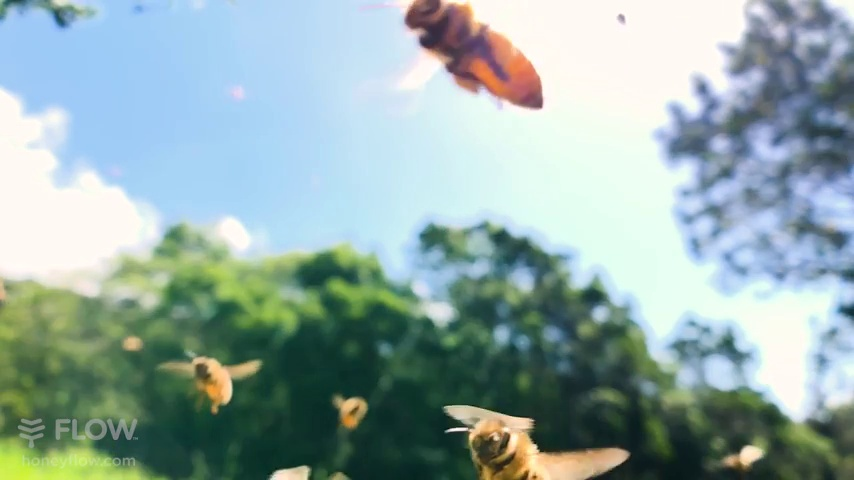insect: (403, 1, 548, 120), (440, 403, 628, 480), (152, 350, 255, 413)
